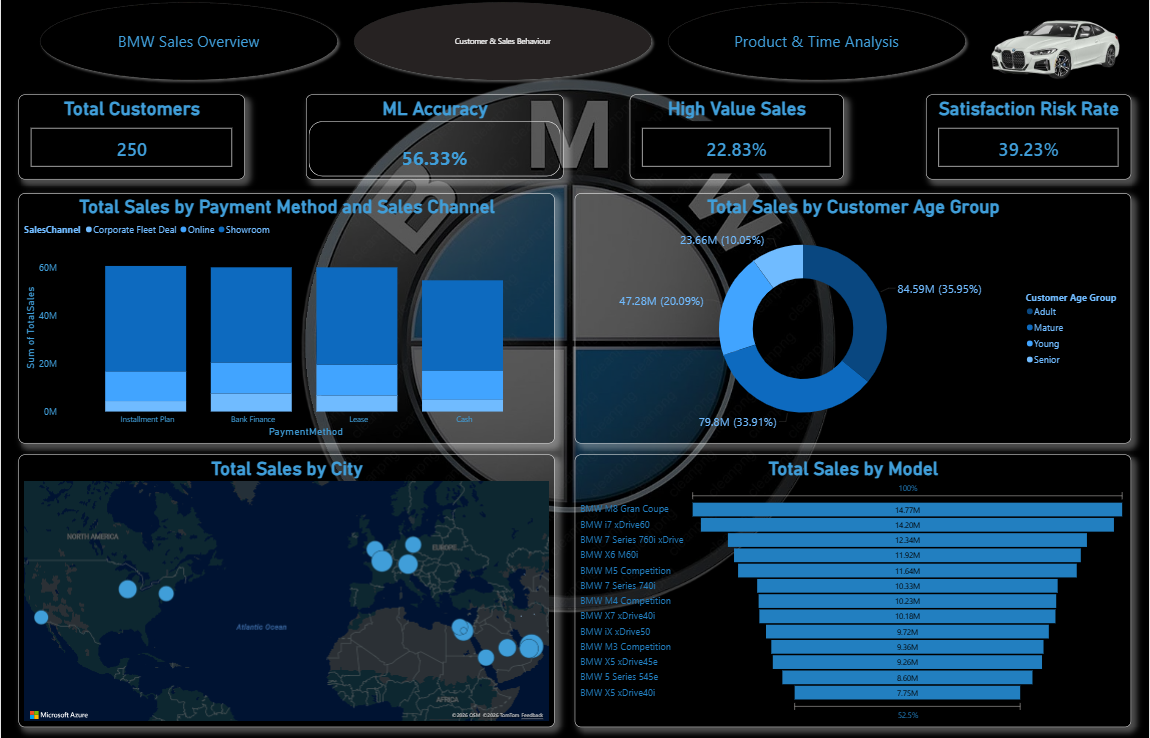

Layout of this report page (visuals, bound fields, positions):
{"tool":"powerbi","page":{"name":"Customer & Sales Behaviour","canvas":[2000,1300],"ordinal":1},"visuals":[{"type":"image","box":[30.5,67.5,1899.5,1100],"z":0},{"type":"cardVisual","title":"Total Customers","fields":{"Data":["Dim_Dealers4.Total Customers"]},"box":[30.5,169.9,394.3,148.1],"z":1000},{"type":"cardVisual","title":"High Value Sales","fields":{"Data":["Fact_Sales5.High Value Sales %"]},"box":[1095.7,169.9,372.5,148.1],"z":2000},{"type":"cardVisual","title":"Satisfaction Risk Rate","fields":{"Data":["Fact_Sales5.Satisfaction Risk Rate"]},"box":[1611.9,169.9,357.2,148.1],"z":3000},{"type":"pageNavigator","box":[58.8,0,1633.7,154.7],"z":4000},{"type":"donutChart","title":"Total Sales by Customer Age Group","fields":{"Category":["Fact_Sales5.Customer Age Group"],"Y":["Sum(Fact_Sales5.TotalSales)"]},"box":[999.8,342,969.3,435.7],"z":5000},{"type":"columnChart","title":"Total Sales by Payment Method and Sales Channel","fields":{"Category":["Fact_Sales5.PaymentMethod"],"Y":["Sum(Fact_Sales5.TotalSales)"],"Series":["Fact_Sales5.SalesChannel"]},"box":[30.5,342,934.5,435.7],"z":6000},{"type":"funnel","title":" Total Sales by Model","fields":{"Y":["Sum(Fact_Sales5.TotalSales)"],"Category":["Dim_Cars1.FullModelName"]},"box":[999.8,797.3,969.3,474.9],"z":7000},{"type":"azureMap","title":"Total Sales by City","fields":{"Category":["Dim_Dealers4.City"],"Size":["Sum(Fact_Sales5.TotalSales)"]},"box":[30.5,797.3,934.5,474.9],"z":8000},{"type":"image","box":[1675.1,15.2,324.6,154.7],"z":9000},{"type":"shape","title":"ML Accuracy","box":[531.5,169.9,448.7,148.1],"z":10000}]}

Visuals, with their boxes in screenshot pixels (x1, y1, x2, y2), scaled from the page's 2000x1300 canvas onto the 1150x738 screenshot:
image: crop(18, 38, 1110, 663)
"Total Customers" cardVisual: crop(18, 96, 244, 181)
"High Value Sales" cardVisual: crop(630, 96, 844, 181)
"Satisfaction Risk Rate" cardVisual: crop(927, 96, 1132, 181)
pageNavigator: crop(34, 0, 973, 88)
"Total Sales by Customer Age Group" donutChart: crop(575, 194, 1132, 441)
"Total Sales by Payment Method and Sales Channel" columnChart: crop(18, 194, 555, 441)
" Total Sales by Model" funnel: crop(575, 453, 1132, 722)
"Total Sales by City" azureMap: crop(18, 453, 555, 722)
image: crop(963, 9, 1149, 96)
"ML Accuracy" shape: crop(306, 96, 564, 181)
